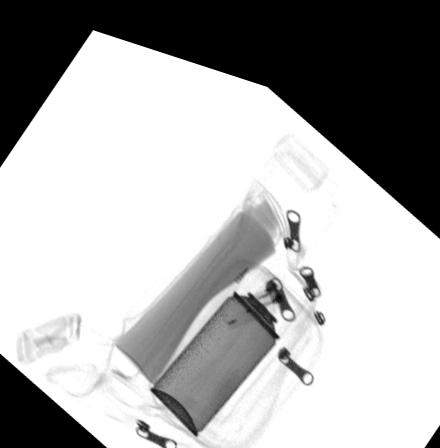Lighter: (215, 261, 283, 314)
Sprayer: (151, 243, 303, 424)
